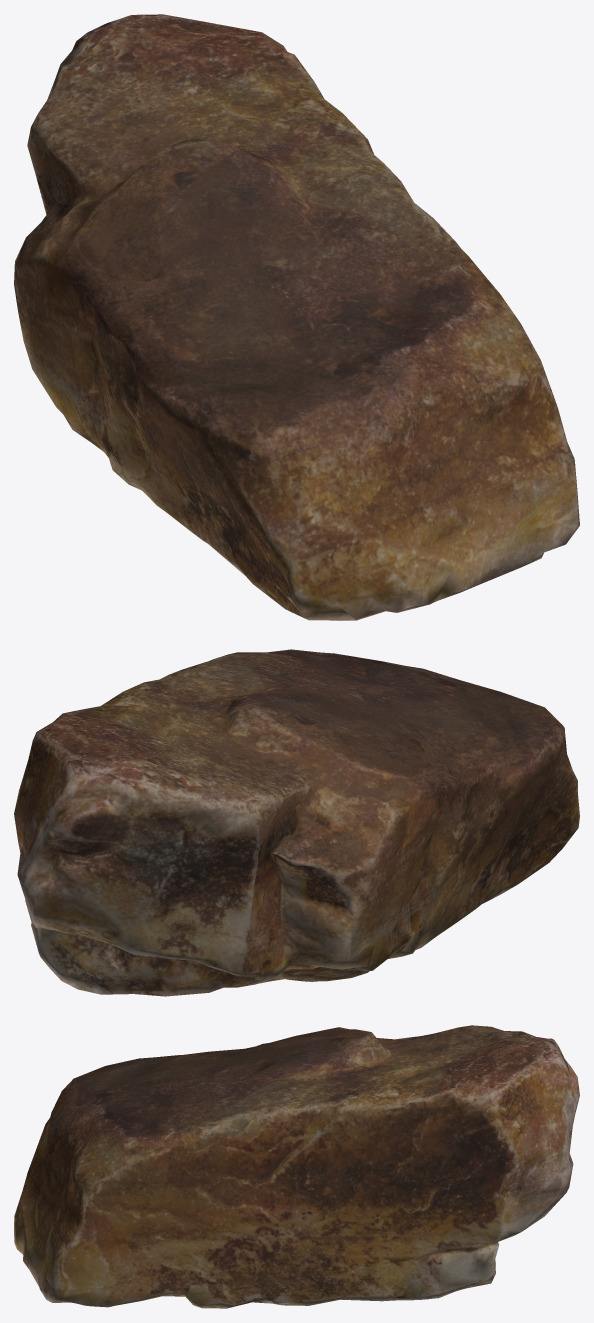
The model's file is NaturalStone.glb.
3 views of the same model, one above another, from view 1: azimuth 30°, elevation 25°; view 2: azimuth 150°, elevation 25°; view 3: azimuth 270°, elevation 25° (orthographic). The views are drawn at different scales.
Visible parts, largest first — view 1: NaturalStone; view 2: NaturalStone; view 3: NaturalStone.
Boxes of the visible parts, <box> form: NaturalStone: <box>14,14,579,620</box>; NaturalStone: <box>14,649,579,996</box>; NaturalStone: <box>14,1025,579,1308</box>.
Size of the model in its own units: 1.18 by 1 by 2.23.
1 material, 1 textured.
